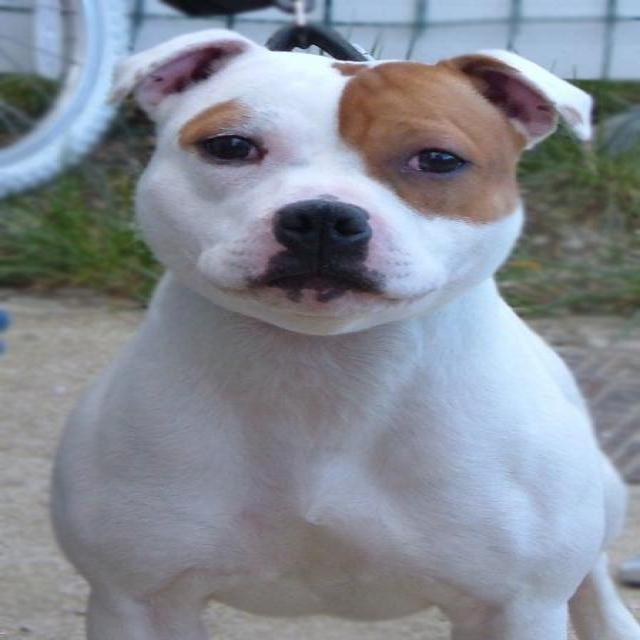staffordshire_bullterrier: (43, 22, 637, 638)
